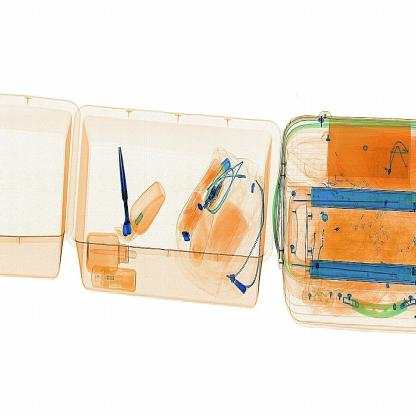gun: (105, 138, 137, 242)
